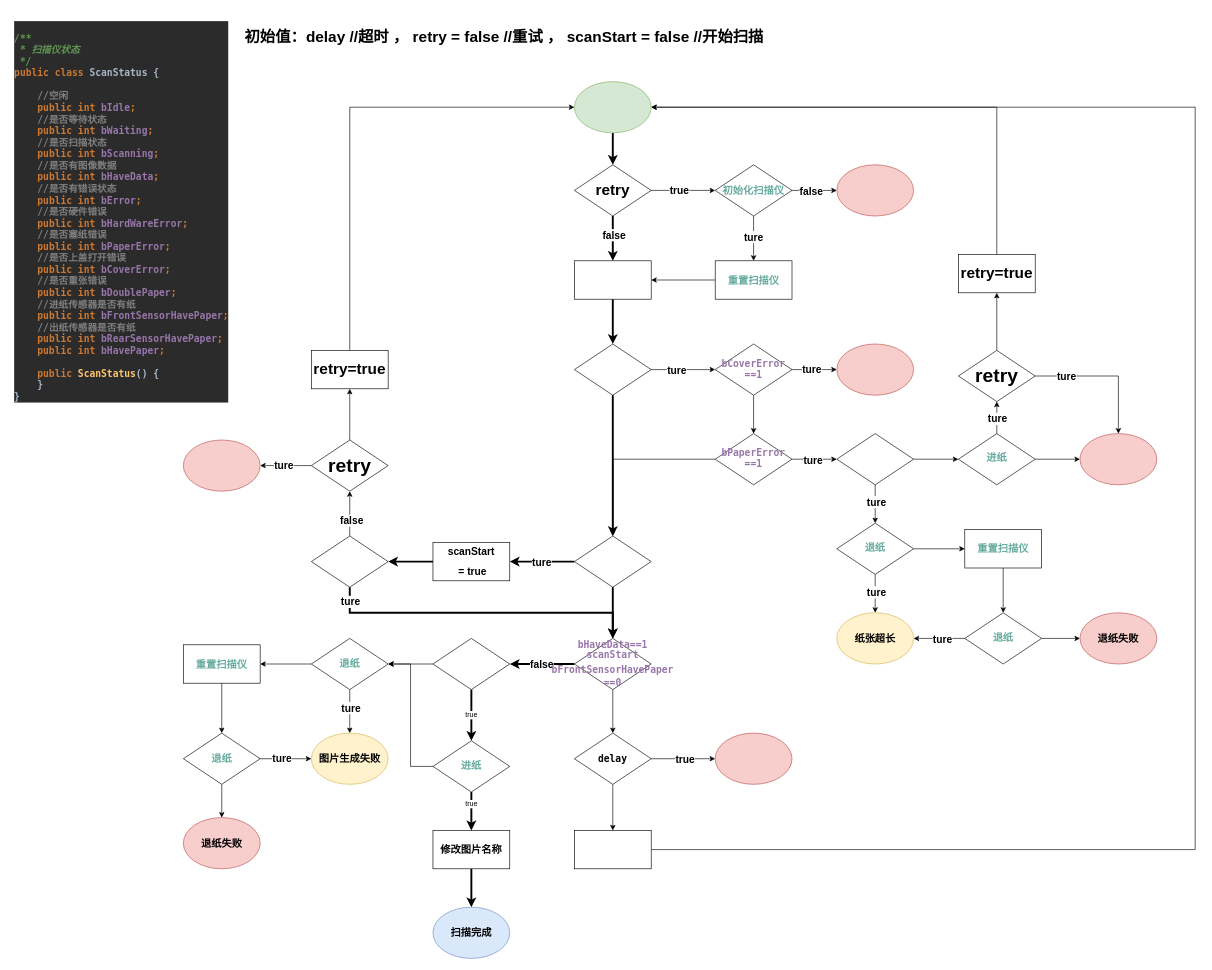
This 1212x970 diagram has some shape labels left out. The centre of each missing label's shape, as x and y in pixels:
bError==1: the point at 612,369
bFrontSensorHavePaper ==1 !scanStart: the point at 612,561
scanStar: the point at 875,459
Sleep(200): the point at 612,849
初始化失败: the point at 875,190
启动失败: the point at 221,465
启动扫描: the point at 349,561
开始扫描: the point at 612,107
收纸失败: the point at 1118,459
等待超时: the point at 753,758
获取图片: the point at 471,664
获取设备状态 返回ScanStatus: the point at 612,279
设备机盖打开: the point at 875,369
